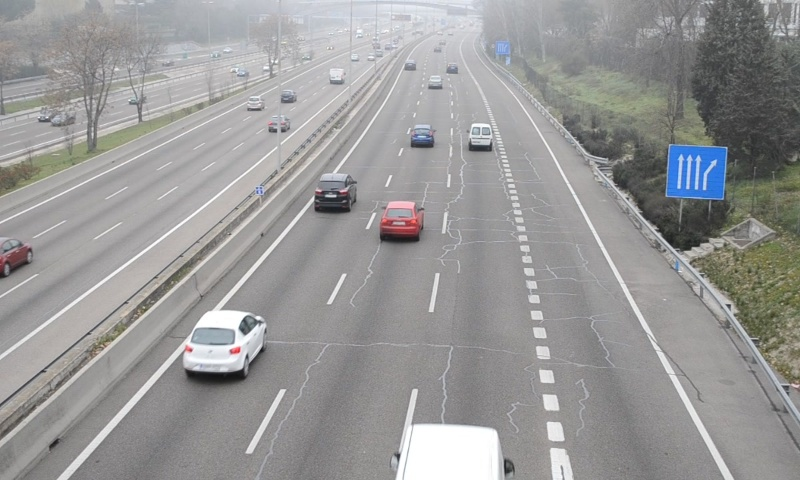car: (181, 311, 268, 372), (380, 201, 422, 239), (313, 174, 355, 210), (410, 124, 434, 146), (428, 74, 443, 89)
van: (468, 122, 493, 149)
